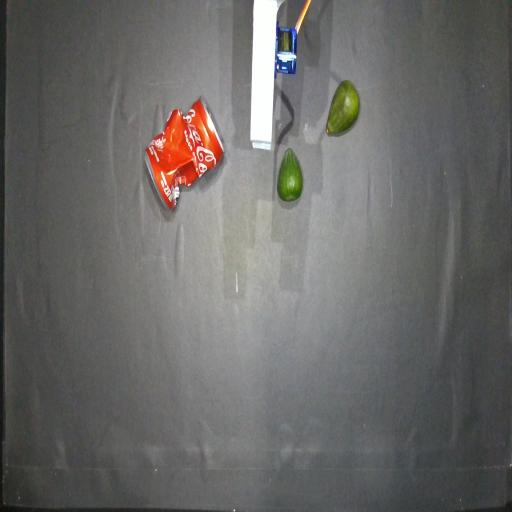higo: (326, 80, 359, 136), (277, 148, 303, 201)
lata_defectuoso: (146, 98, 223, 209)
